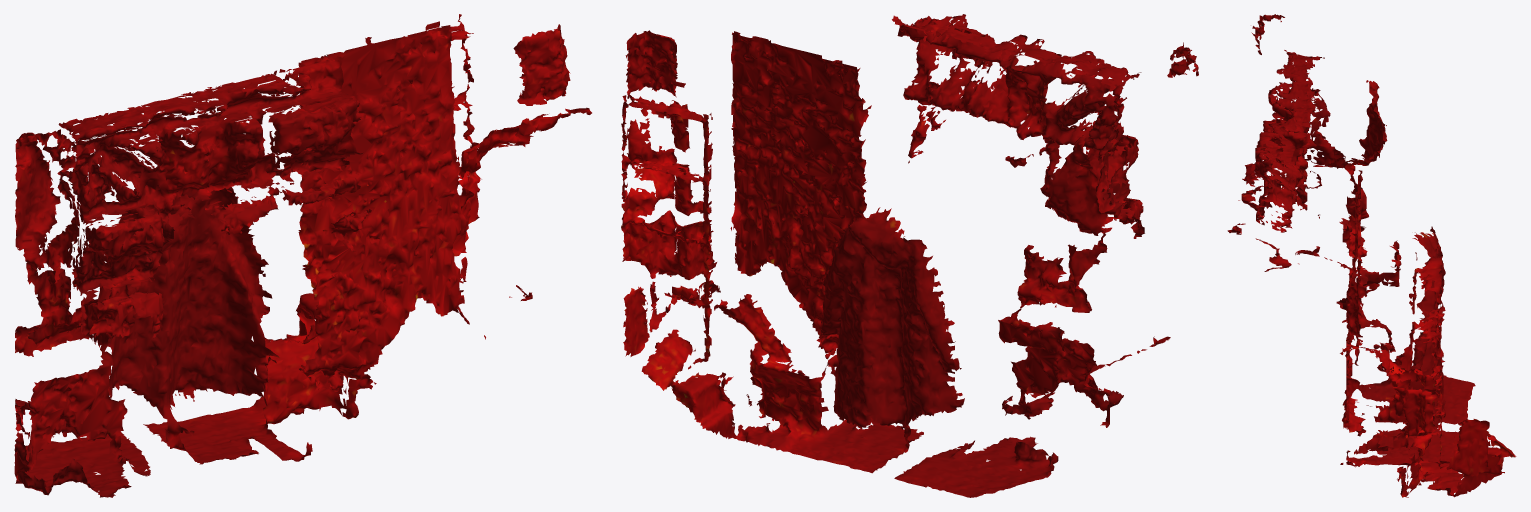
3 renders of one model, left to right at view 1: azimuth 30°, elevation 25°; view 2: azimuth 150°, elevation 25°; view 3: azimuth 270°, elevation 25°, orthographic. The views are drawn at different scales.
Size of the model in its own units: 3.02 by 2.14 by 1.64.
